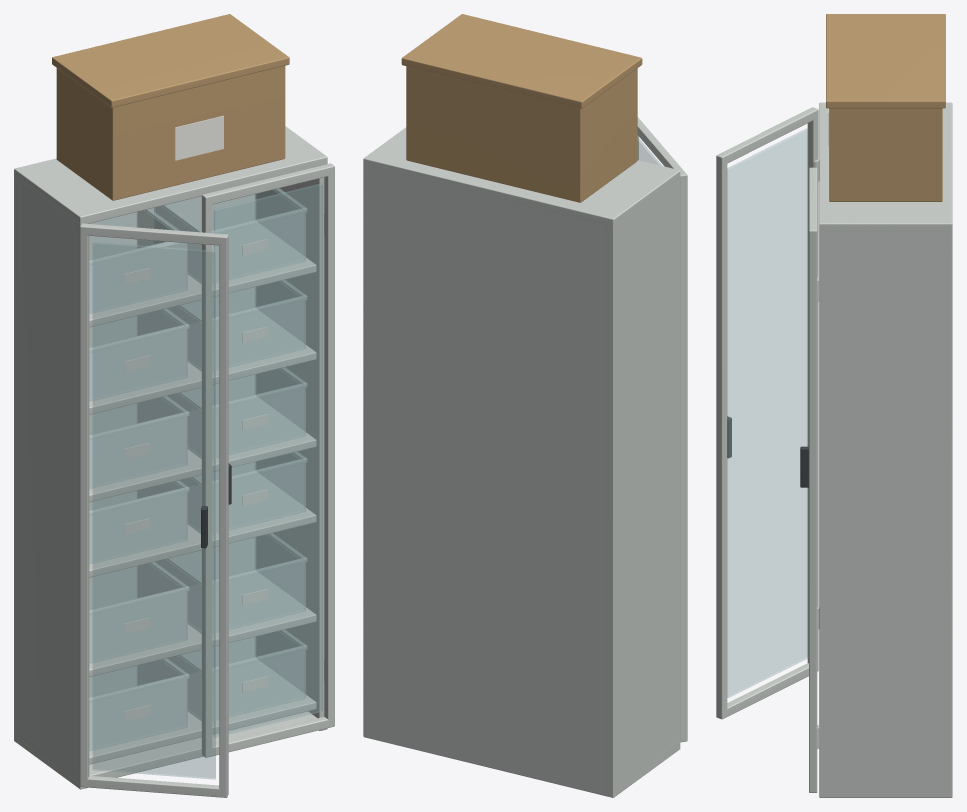
The model's file is cabinet.glb.
3 renders of one model, left to right at view 1: azimuth 30°, elevation 25°; view 2: azimuth 150°, elevation 25°; view 3: azimuth 270°, elevation 25°, orthographic.
Visible parts, largest first — view 1: back_cabinet_0__glass-1, back_cabinet_0__glass1, back_cabinet_0__side-1, back_cabinet_0__side1, back_cabinet_0__back, archive_0__body, archive_0__lid, back_cabinet_0__shelfplate0, back_cabinet_0__shelfplate1, back_cabinet_0__shelfplate4, back_cabinet_0__shelfplate3, back_cabinet_0__shelfplate2 (+50 smaller); view 2: back_cabinet_0__back, back_cabinet_0__side-1, archive_0__body, archive_0__lid, back_cabinet_0__cap1.885, back_cabinet_0__doorrail-10, back_cabinet_0__doorcross-11.845, back_cabinet_0__side1; view 3: back_cabinet_0__side1, back_cabinet_0__glass-1, archive_0__lid, archive_0__body, back_cabinet_0__doorrail-10.425, back_cabinet_0__cap1.885, back_cabinet_0__doorrail10, back_cabinet_0__back, back_cabinet_0__doorrail-10, back_cabinet_0__doorcross-11.845, back_cabinet_0__doorcross-10.015, back_cabinet_0__doorcross11.845.
Part boxes in pixels (x1,y1,x2,y2): back_cabinet_0__glass-1: [93, 242, 215, 779]; back_cabinet_0__glass1: [214, 183, 322, 737]; back_cabinet_0__side-1: [14, 179, 88, 789]; back_cabinet_0__side1: [256, 177, 327, 730]; back_cabinet_0__back: [14, 170, 255, 742]; archive_0__body: [56, 66, 285, 200]; archive_0__lid: [52, 14, 289, 107]; back_cabinet_0__shelfplate0: [89, 658, 316, 764]; back_cabinet_0__shelfplate1: [89, 571, 316, 676]; back_cabinet_0__shelfplate4: [89, 308, 316, 414]; back_cabinet_0__shelfplate3: [89, 396, 316, 502]; back_cabinet_0__shelfplate2: [89, 471, 316, 577]; back_cabinet_0__back: [363, 159, 616, 797]; back_cabinet_0__side-1: [605, 179, 680, 797]; archive_0__body: [406, 66, 637, 202]; archive_0__lid: [401, 14, 642, 108]; back_cabinet_0__cap1.885: [363, 127, 680, 226]; back_cabinet_0__doorrail-10: [680, 172, 687, 742]; back_cabinet_0__doorcross-11.845: [637, 117, 685, 173]; back_cabinet_0__side1: [363, 168, 370, 736]; back_cabinet_0__side1: [819, 220, 952, 797]; back_cabinet_0__glass-1: [727, 128, 808, 697]; archive_0__lid: [826, 14, 945, 108]; archive_0__body: [829, 108, 942, 201]; back_cabinet_0__doorrail-10.425: [716, 154, 727, 719]; back_cabinet_0__cap1.885: [819, 102, 952, 231]; back_cabinet_0__doorrail10: [809, 228, 817, 792]; back_cabinet_0__back: [947, 141, 952, 797]; back_cabinet_0__doorrail-10: [807, 107, 818, 671]; back_cabinet_0__doorcross-11.845: [720, 108, 815, 163]; back_cabinet_0__doorcross-10.015: [725, 663, 808, 717]; back_cabinet_0__doorcross11.845: [809, 169, 817, 228].
Size of the model in its own units: 0.8788 by 2.25 by 0.7081.
